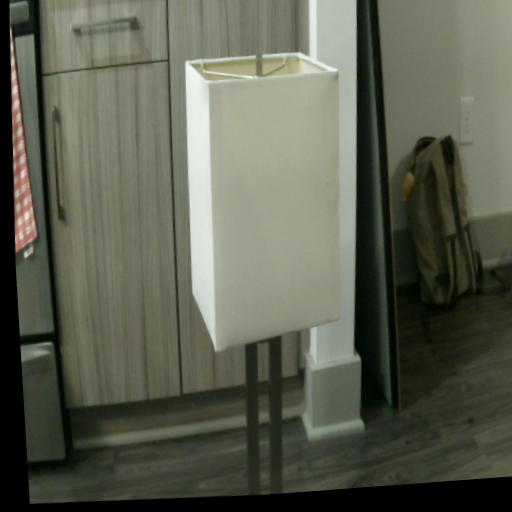lamp: (169, 43, 364, 500)
